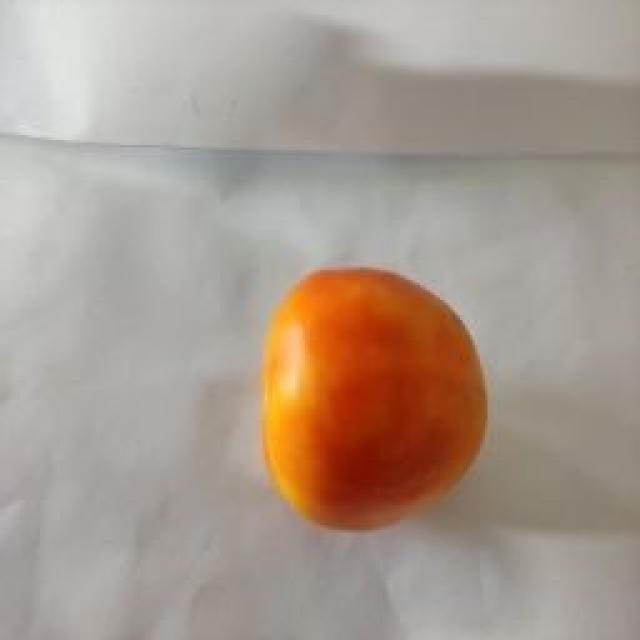unripe: (272, 248, 430, 432)
